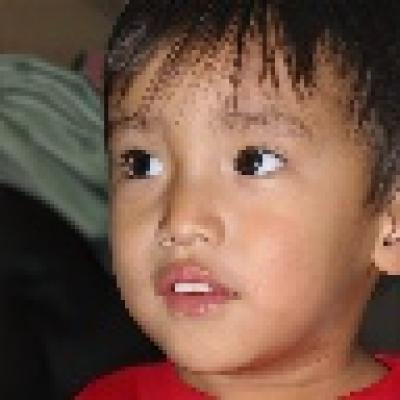sad: (111, 25, 375, 361)
